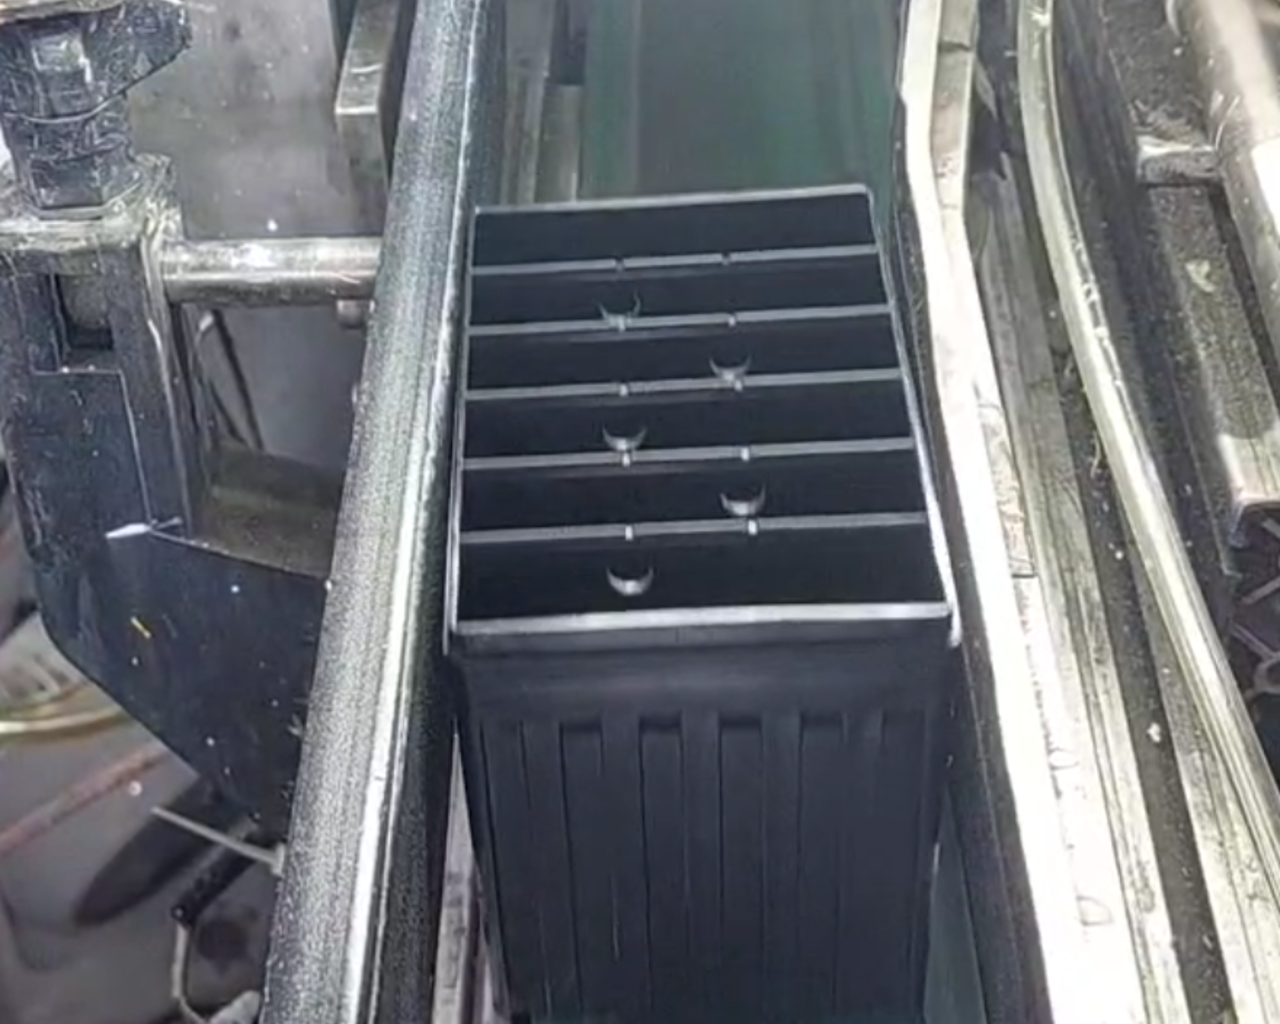box: (427, 173, 973, 678)
round: (710, 463, 781, 524), (595, 548, 668, 603), (693, 326, 762, 384), (591, 405, 656, 459), (586, 275, 648, 331)
